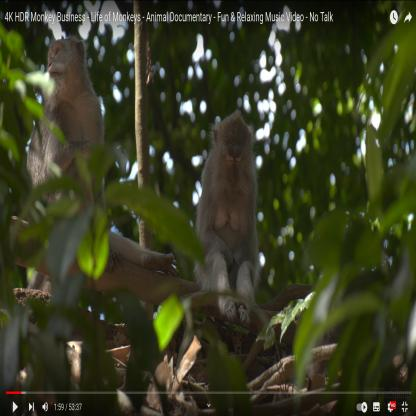monkey: (194, 108, 260, 327), (25, 32, 105, 183)
